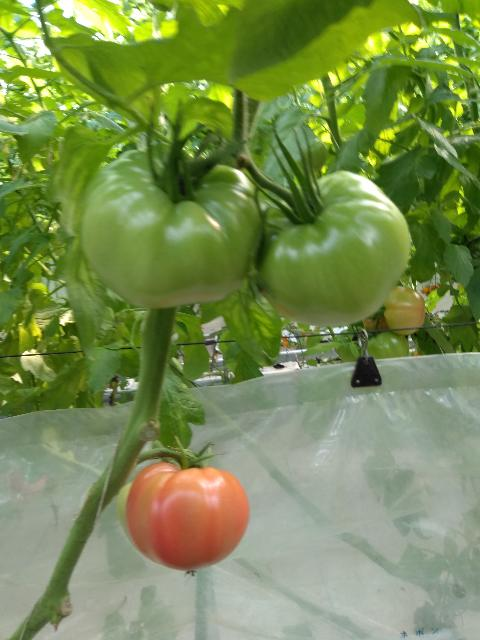b_green: (82, 141, 270, 309), (252, 171, 411, 326), (366, 332, 409, 360)
b_half_ripened: (126, 463, 249, 571), (383, 286, 425, 335)
